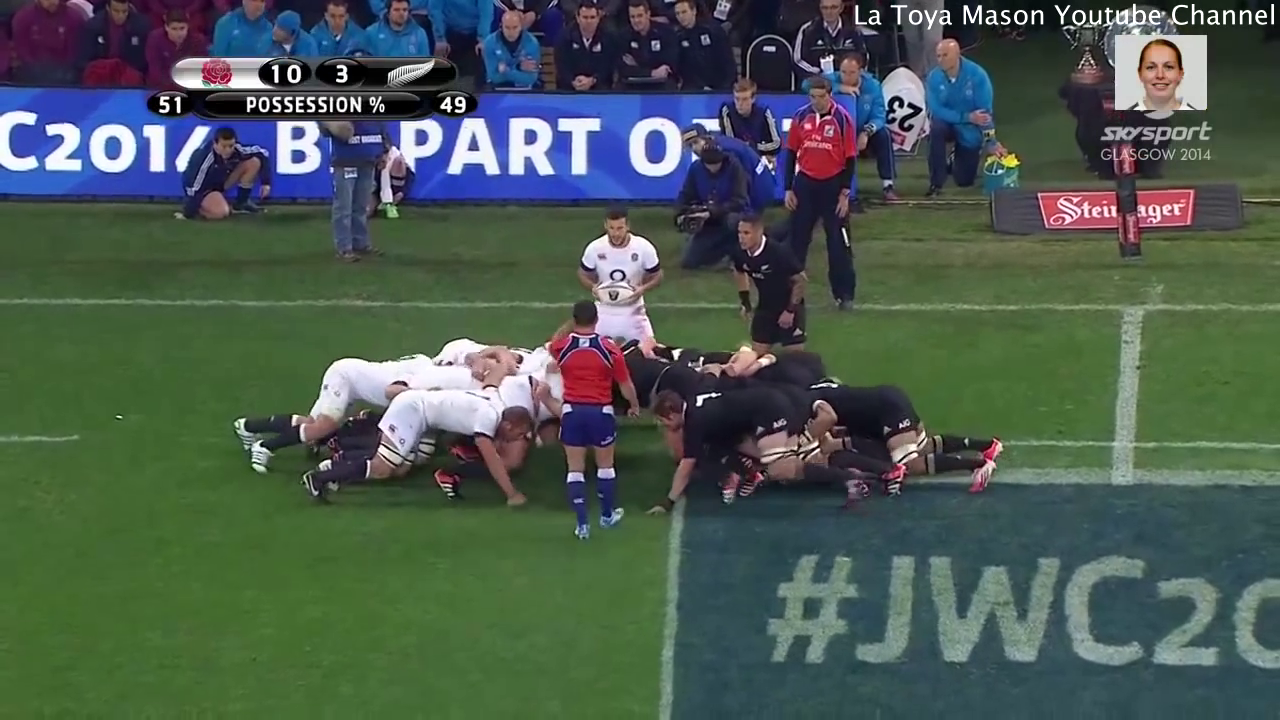ball: (585, 268, 645, 310)
player: (223, 336, 455, 479), (641, 388, 890, 513), (294, 385, 533, 510), (793, 375, 1014, 496), (547, 297, 635, 544), (721, 215, 823, 359), (568, 204, 668, 345)
scrum: (217, 296, 1014, 520)
